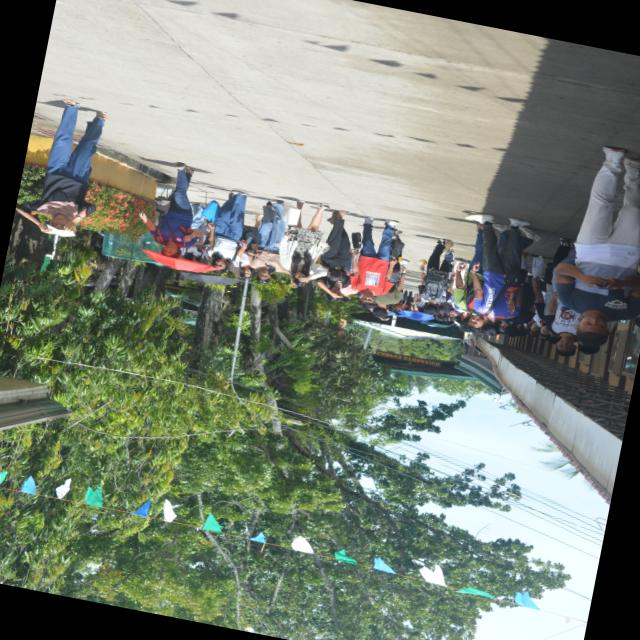person: (556, 146, 639, 345), (16, 98, 107, 236), (466, 213, 529, 334), (140, 162, 203, 257), (279, 200, 330, 285), (351, 216, 398, 308), (247, 200, 289, 283), (208, 190, 246, 273), (317, 210, 352, 300), (419, 238, 454, 314), (233, 214, 262, 278), (182, 202, 206, 261)
